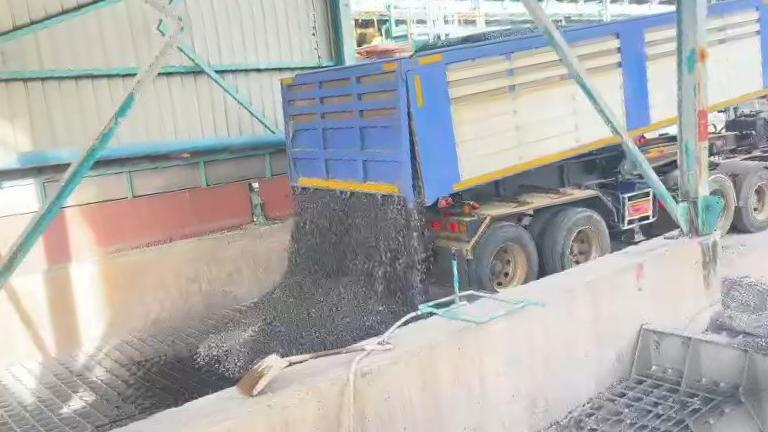gravel: (196, 190, 428, 376), (719, 277, 768, 364), (412, 26, 539, 56)
